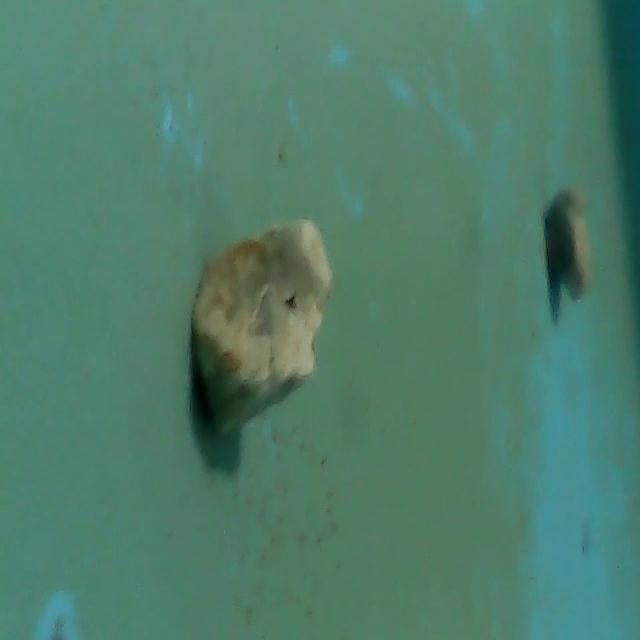rock: (184, 211, 334, 444)
